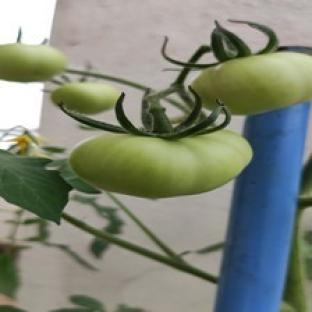Tomato: (70, 130, 252, 197), (193, 52, 311, 114), (0, 42, 66, 82), (51, 81, 121, 114)
